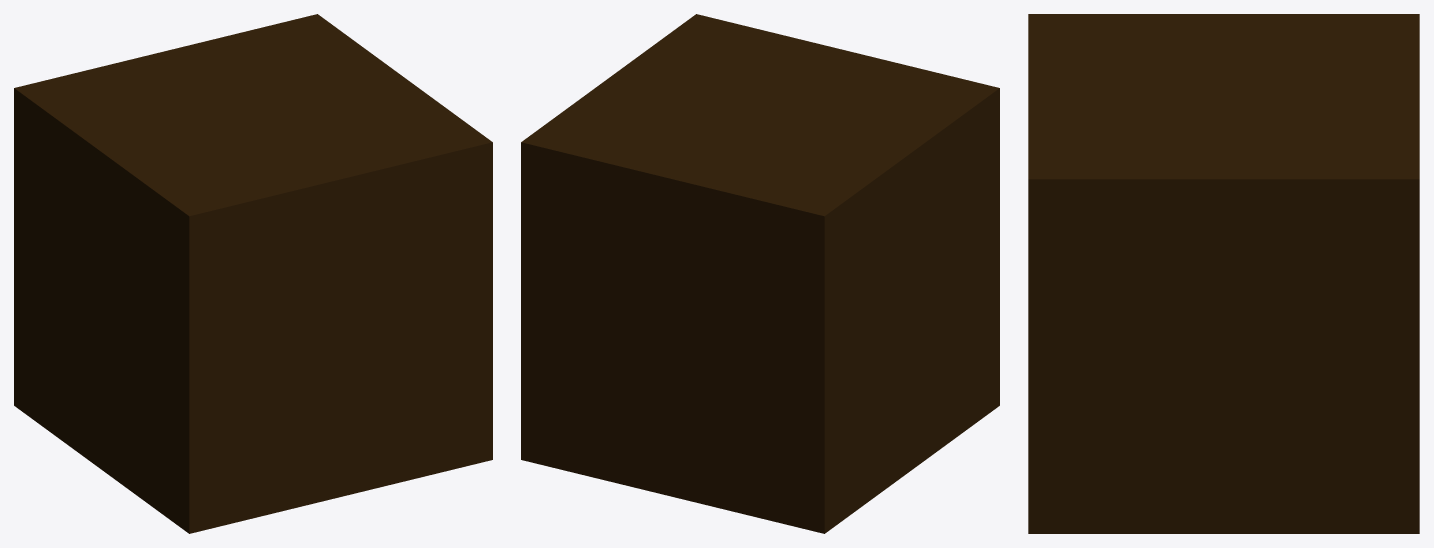
3 views of the same model, side by side, from view 1: azimuth 30°, elevation 25°; view 2: azimuth 150°, elevation 25°; view 3: azimuth 270°, elevation 25° (orthographic). The views are drawn at different scales.
Parts seen in each view (by area): view 1: Cube_Cube.001; view 2: Cube_Cube.001; view 3: Cube_Cube.001.
Boxes of the visible parts, x1,y1,x2,y2 form: Cube_Cube.001: (14,14,492,533); Cube_Cube.001: (521,14,999,533); Cube_Cube.001: (1028,14,1419,533).
Size of the model in its own units: 10 by 10.08 by 10.
